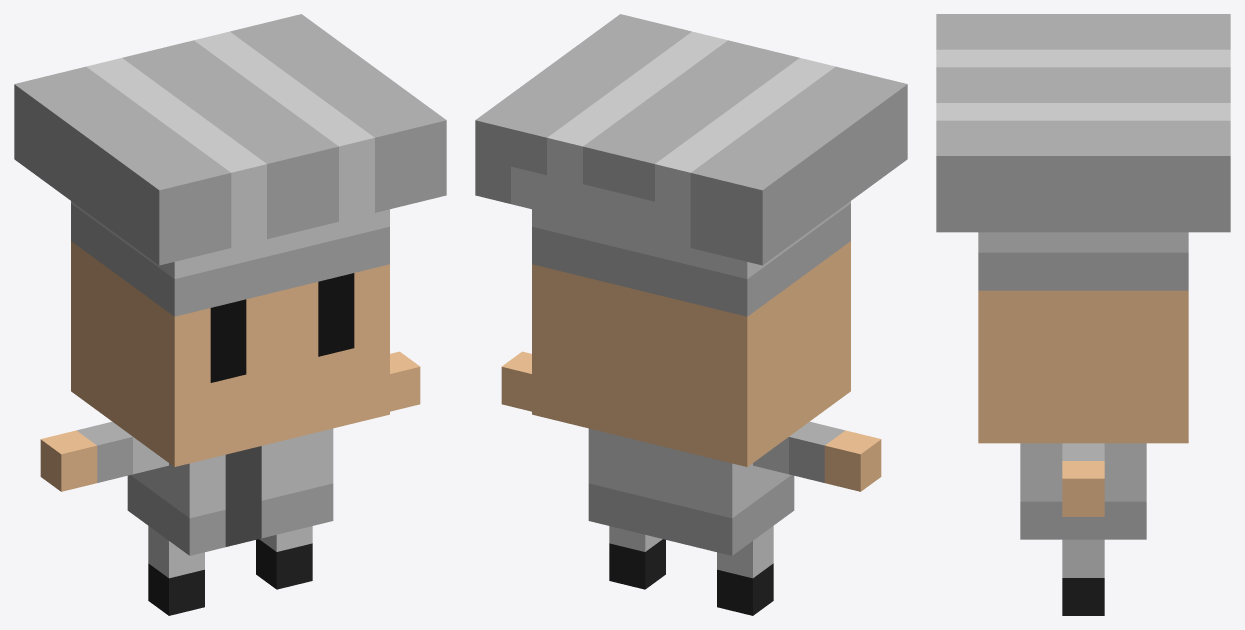
3 renders of one model, left to right at view 1: azimuth 30°, elevation 25°; view 2: azimuth 150°, elevation 25°; view 3: azimuth 270°, elevation 25°, orthographic.
Parts seen in each view (by area): view 1: Object_0; view 2: Object_0; view 3: Object_0.
Part boxes in pixels (x1,y1,x2,y2): Object_0: (14,14,446,615); Object_0: (475,14,907,615); Object_0: (936,14,1230,615).
Bounding box in the file's own units: 1.23 × 1.6 × 0.8615.
Materials: 1 (1 with a texture image).
